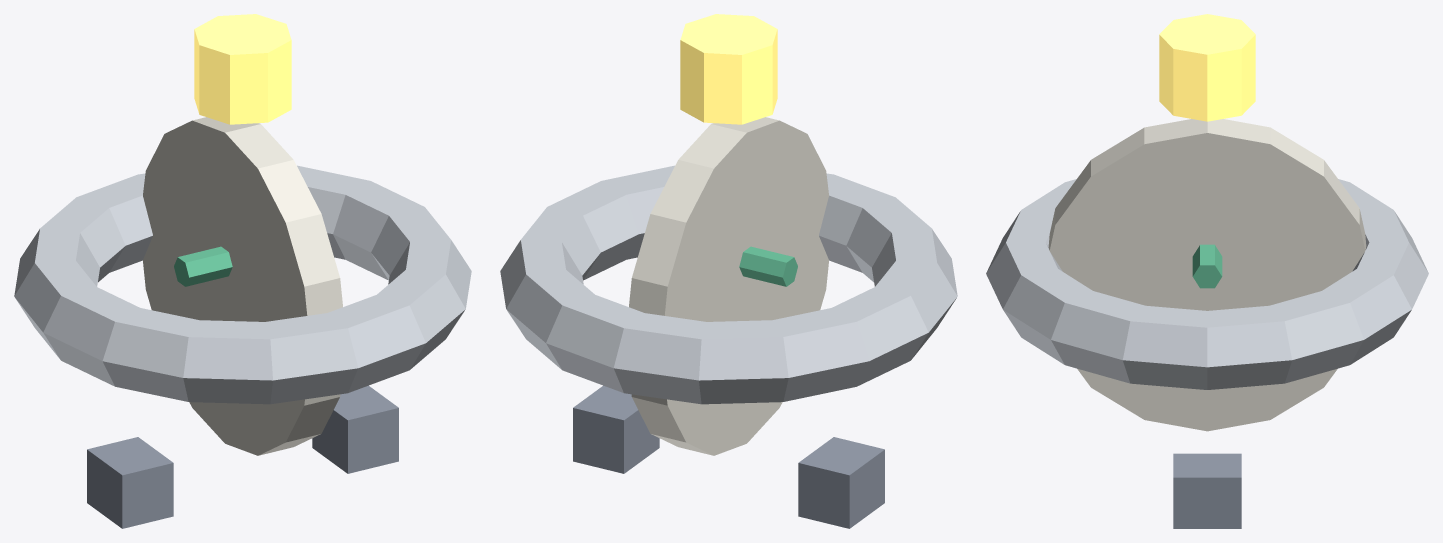
The model's file is clock.glb.
3 views of the same model, side by side, from view 1: azimuth 30°, elevation 25°; view 2: azimuth 150°, elevation 25°; view 3: azimuth 270°, elevation 25° (orthographic). The views are drawn at different scales.
Parts seen in each view (by area): view 1: PangClockRim, PangClockFace, PangClockCrown, PangClockFoot0, PangClockFoot1, PangClockHand; view 2: PangClockRim, PangClockFace, PangClockCrown, PangClockFoot0, PangClockFoot1, PangClockHand; view 3: PangClockFace, PangClockRim, PangClockCrown, PangClockFoot1, PangClockHand.
Part boxes in pixels (<box>): PangClockRim: <box>14,165,471,404</box>; PangClockFace: <box>143,117,342,455</box>; PangClockCrown: <box>194,14,291,124</box>; PangClockFoot0: <box>87,437,173,528</box>; PangClockFoot1: <box>312,385,398,473</box>; PangClockHand: <box>174,246,232,286</box>; PangClockRim: <box>500,165,957,404</box>; PangClockFace: <box>629,117,828,455</box>; PangClockCrown: <box>680,14,777,124</box>; PangClockFoot0: <box>798,437,884,528</box>; PangClockFoot1: <box>573,385,659,473</box>; PangClockHand: <box>739,246,797,286</box>; PangClockFace: <box>1048,119,1366,431</box>; PangClockRim: <box>986,179,1428,389</box>; PangClockCrown: <box>1159,14,1255,121</box>; PangClockFoot1: <box>1173,453,1241,528</box>; PangClockHand: <box>1192,244,1222,288</box>.
Size of the model in its own units: 0.78 by 0.835 by 0.78.
